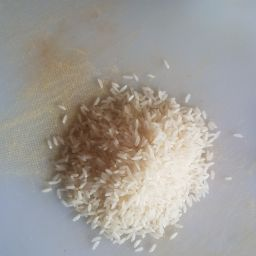Basmati rice: (40, 32, 252, 256)
